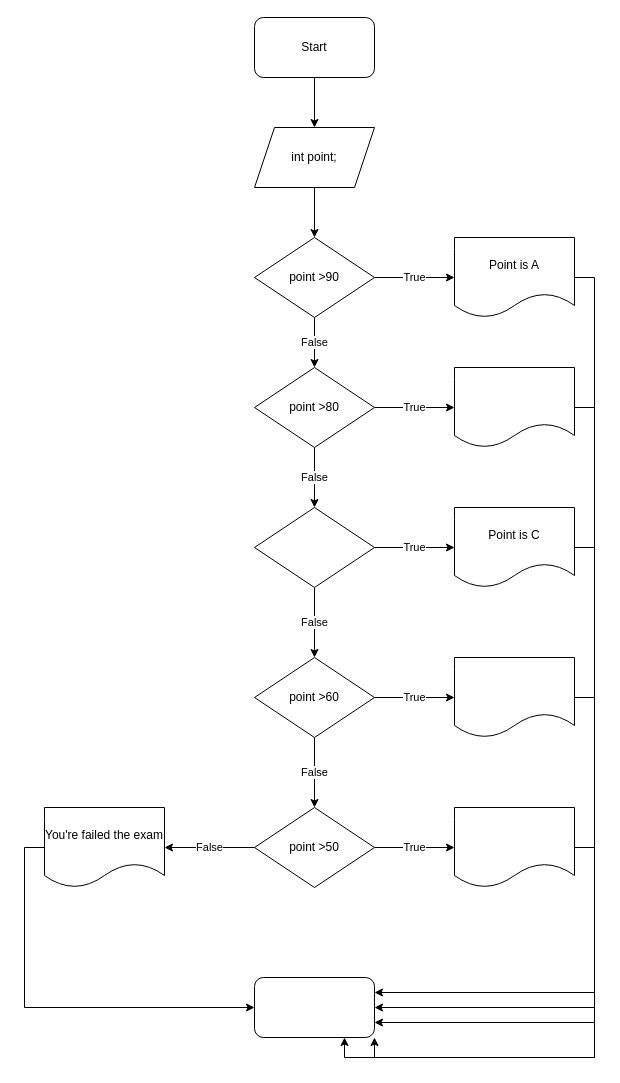
The diagram is 620 pixels wide and 1083 high, and some of its shapes have lost their labels. The centre of each missing label's shape, as x and y in pixels:
End: pixel 314 1007
point >70: pixel 314 547
Point is B: pixel 514 407
Point is D: pixel 514 697
Point is E: pixel 514 847
